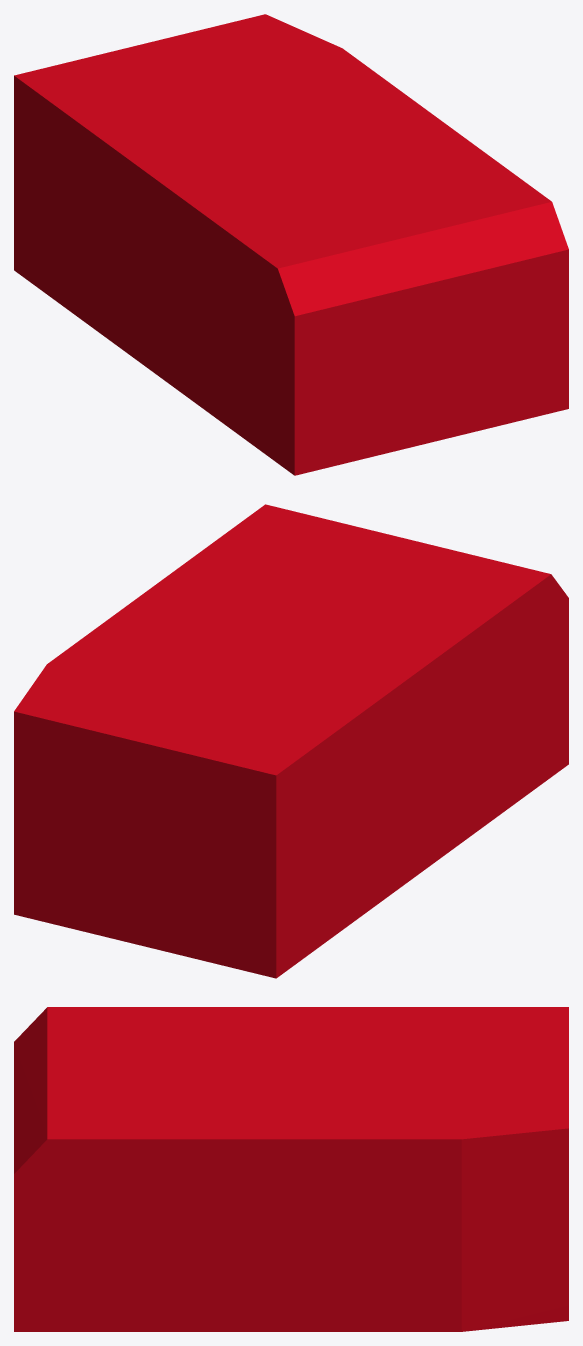
The model's file is simple_example_hole_part_35.obj.
3 views of the same model, one above another, from view 1: azimuth 30°, elevation 25°; view 2: azimuth 150°, elevation 25°; view 3: azimuth 270°, elevation 25° (orthographic). The views are drawn at different scales.
Bounding box in the file's own units: 17.99 × 12.21 × 31.9.
